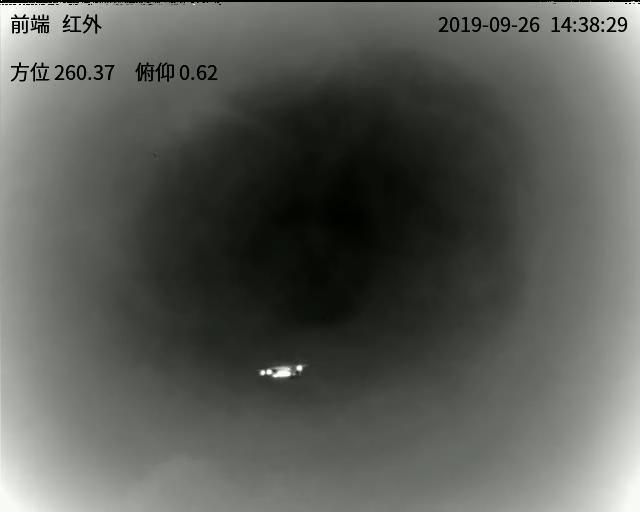uav: (261, 360, 320, 383)
